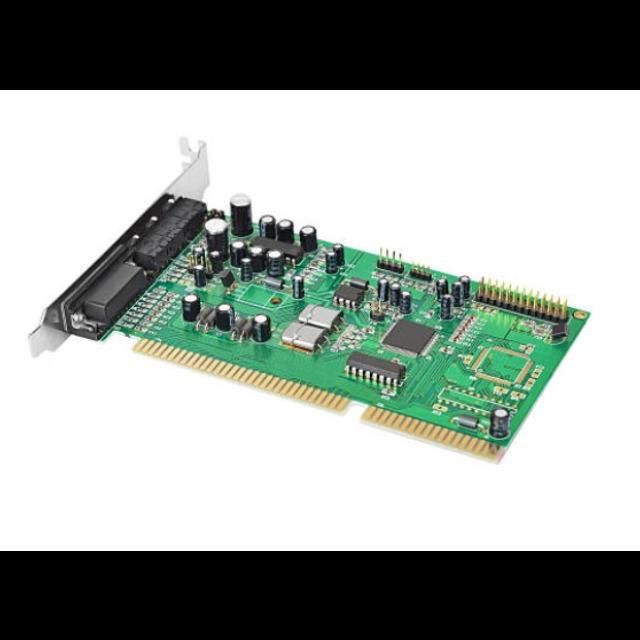PCB: (28, 141, 590, 463)
